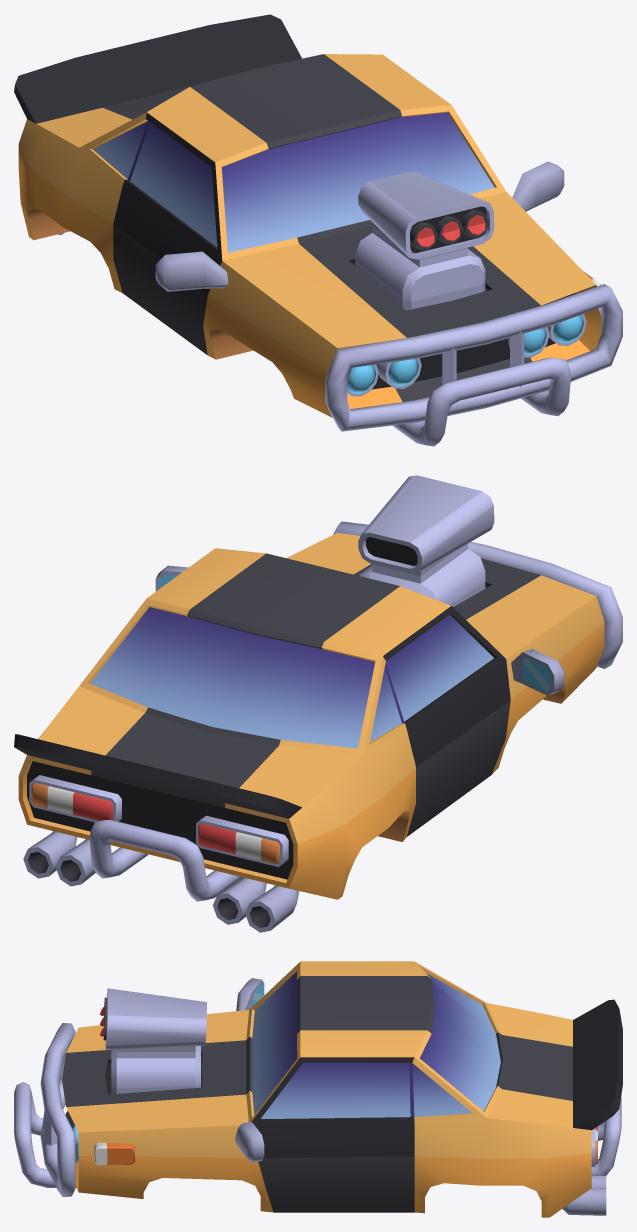
Rendered from MuscleCar_Yellow.fbx.
3 views of the same model, one above another, from view 1: azimuth 30°, elevation 25°; view 2: azimuth 150°, elevation 25°; view 3: azimuth 270°, elevation 25° (orthographic). The views are drawn at different scales.
Visible parts, largest first — view 1: Car_1; view 2: Car_1; view 3: Car_1.
Boxes of the visible parts, x1,y1,x2,y2 form: Car_1: (14, 14, 622, 446); Car_1: (14, 475, 622, 932); Car_1: (14, 961, 622, 1217).
Size of the model in its own units: 2.86 by 1.36 by 4.47.
